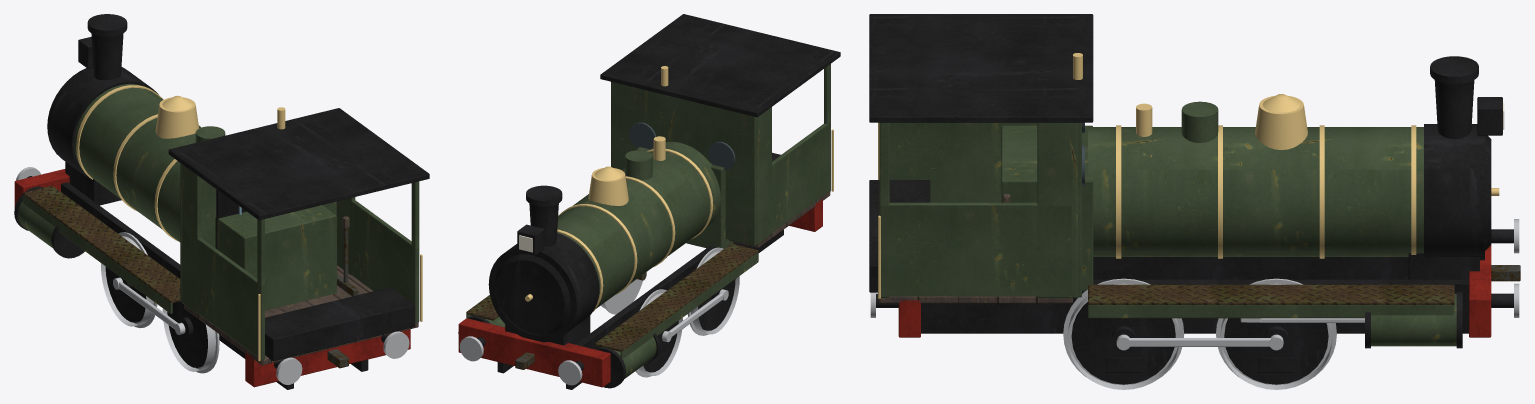
File: steam_loco.glb
3 renders of one model, left to right at view 1: azimuth 30°, elevation 25°; view 2: azimuth 150°, elevation 25°; view 3: azimuth 270°, elevation 25°, orthographic. The views are drawn at different scales.
Visible parts, largest first — view 1: Body, Wheel_RL, Wheel_FL, CouplingRod_L, Reverser; view 2: Body, Wheel_RL, Wheel_FL, Wheel_RR, CouplingRod_L; view 3: Body, Wheel_RR, Wheel_FR, CouplingRod_R, PistonRod_R.
Part boxes in pixels (x1,y1,x2,y2): Body: (14, 14, 429, 389); Wheel_RL: (162, 301, 219, 373); Wheel_FL: (101, 232, 157, 327); CouplingRod_L: (113, 277, 185, 334); Reverser: (342, 216, 349, 283); Body: (458, 14, 840, 389); Wheel_RL: (687, 247, 739, 335); Wheel_FL: (635, 289, 682, 377); Wheel_RR: (601, 279, 642, 314); CouplingRod_L: (662, 289, 728, 342); Body: (869, 14, 1520, 348); Wheel_RR: (1063, 278, 1184, 389); Wheel_FR: (1216, 278, 1336, 389); CouplingRod_R: (1116, 334, 1283, 350); PistonRod_R: (1240, 318, 1364, 322).
Size of the model in its own units: 2.52 by 3.45 by 6.4.
16 materials, 7 textured.
